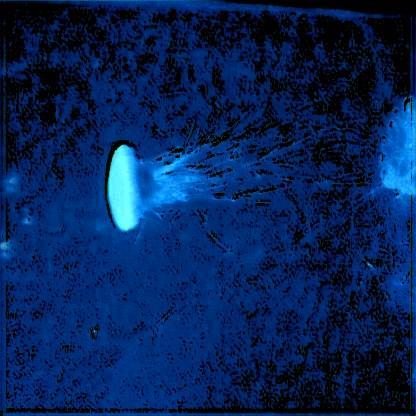GoldThorn: (106, 140, 260, 227), (376, 98, 416, 207)
